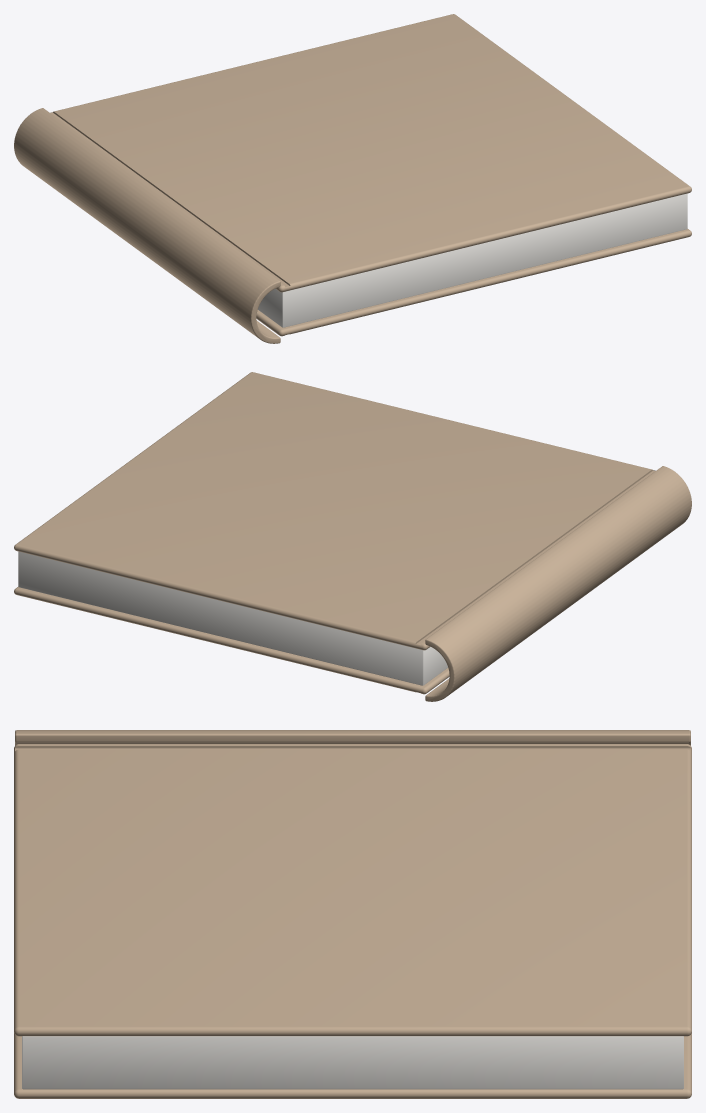
The model's file is print--square.glb.
3 renders of one model, top to bottom at view 1: azimuth 30°, elevation 25°; view 2: azimuth 150°, elevation 25°; view 3: azimuth 270°, elevation 25°, orthographic. The views are drawn at different scales.
Visible parts, largest first — view 1: CoverFront, Spine, Pages, CoverBack; view 2: CoverFront, Spine, Pages, CoverBack; view 3: CoverFront, Pages, Spine, CoverBack.
Boxes of the visible parts, left/top/right/bottom form: CoverFront: left=50, top=14, right=691, bottom=292; Spine: left=14, top=108, right=280, bottom=343; Pages: left=258, top=193, right=687, bottom=327; CoverBack: left=256, top=229, right=691, bottom=336; CoverFront: left=14, top=372, right=655, bottom=650; Spine: left=425, top=466, right=691, bottom=701; Pages: left=18, top=551, right=447, bottom=685; CoverBack: left=14, top=587, right=449, bottom=694; CoverFront: left=14, top=744, right=691, bottom=1036; Pages: left=22, top=1036, right=683, bottom=1089; Spine: left=15, top=730, right=690, bottom=745; CoverBack: left=14, top=1033, right=691, bottom=1098.
Size of the model in its own units: 0.3208 by 0.043 by 0.3.
